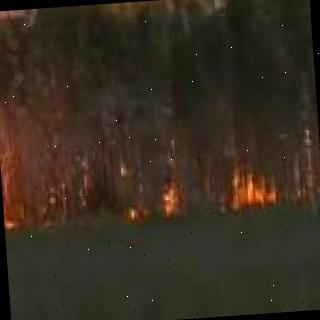fire: (222, 170, 278, 210), (121, 188, 183, 218)
